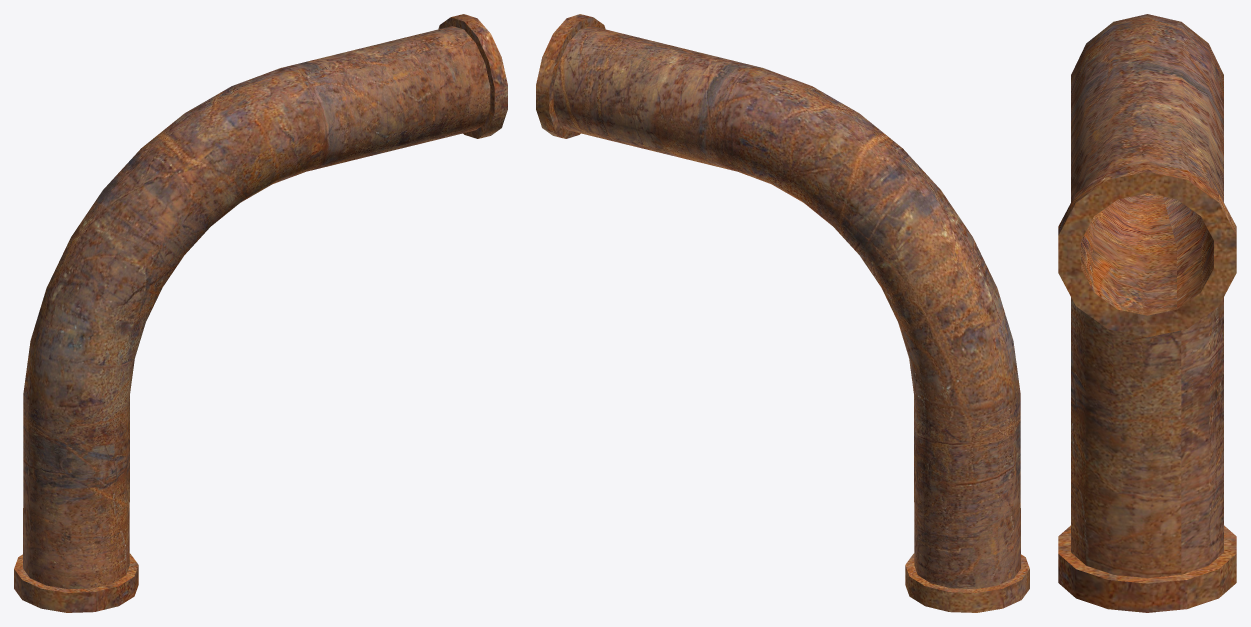
The model's file is Pipe_C.fbx.
3 renders of one model, left to right at view 1: azimuth 30°, elevation 25°; view 2: azimuth 150°, elevation 25°; view 3: azimuth 270°, elevation 25°, orthographic. The views are drawn at different scales.
Visible parts, largest first — view 1: pCylinder42; view 2: pCylinder42; view 3: pCylinder42.
Part boxes in pixels (box(x1,y1,x2,y2)): pCylinder42: box(14, 14, 507, 612); pCylinder42: box(536, 14, 1029, 612); pCylinder42: box(1058, 14, 1236, 612).
Size of the model in its own units: 9.82 by 9.71 by 2.28.
